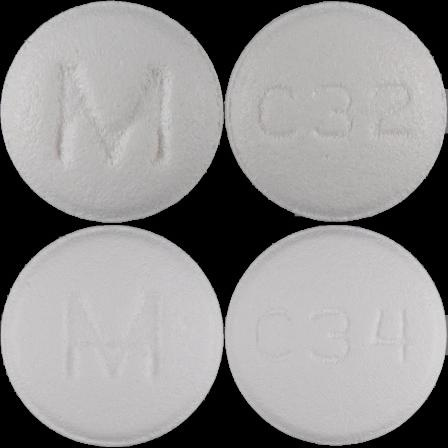0378-3632: (0, 0, 224, 224)
